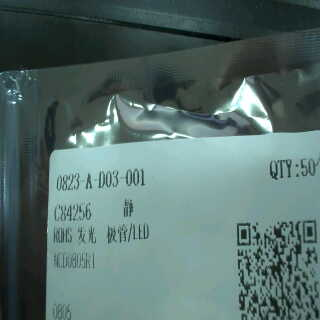LED: (74, 219, 166, 244)
